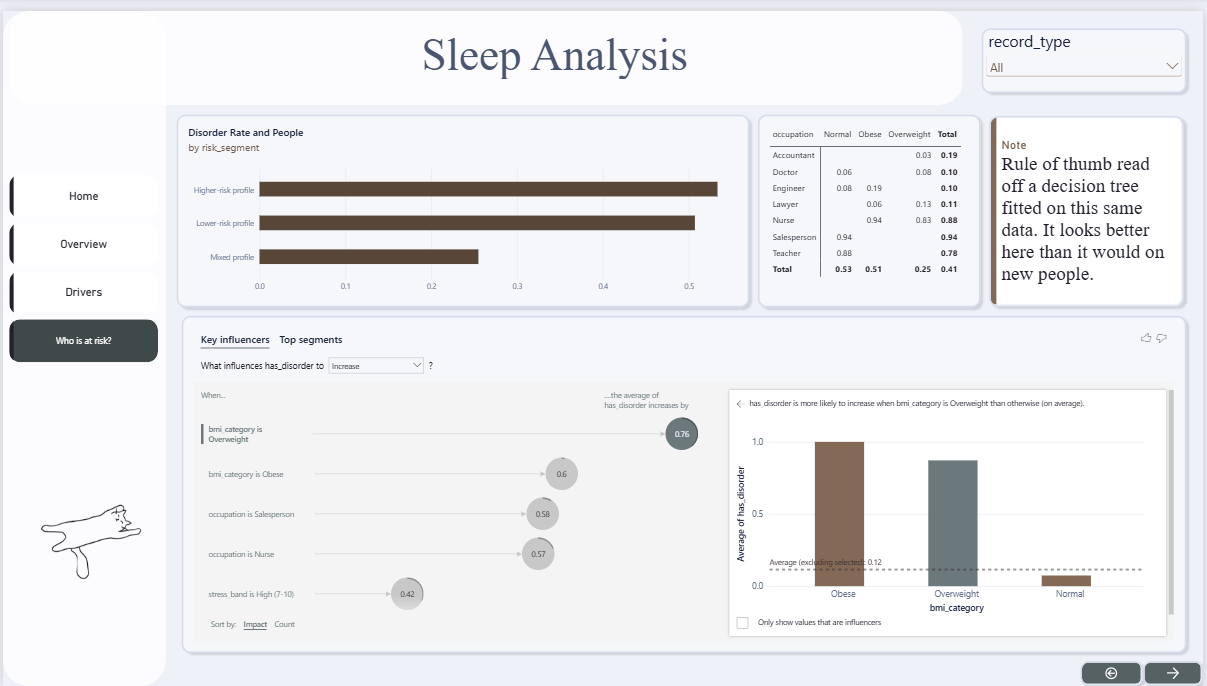

Layout of this report page (visuals, bound fields, positions):
{"tool":"powerbi","page":{"name":"Who is at risk?","canvas":[1920,1080],"ordinal":3},"visuals":[{"type":"pivotTable","fields":{"Rows":["dim_occupation.occupation"],"Columns":["dim_bmi.bmi_category"],"Values":["_measures.Disorder Rate (10+ people)"]},"box":[1208.9,166.5,356,308],"z":0},{"type":"barChart","fields":{"Category":["dim_risk_segment.risk_segment"],"Y":["_measures.Disorder Rate"]},"box":[278.7,166.5,915.7,307.6],"z":1000},{"type":"keyDriversVisual","fields":{"Target":["fact_sleep.has_disorder"],"ExplainBy":["fact_sleep.occupation","fact_sleep.bmi_category","fact_sleep.age_group","fact_sleep.stress_band","fact_sleep.gender"]},"box":[285.9,488.6,1607,539.3],"z":3000},{"type":"slicer","fields":{"Values":["fact_sleep.record_type"]},"box":[1565.4,29,327.5,103.2],"z":4000},{"type":"actionButton","box":[1724,1040,100,40],"z":6000},{"type":"actionButton","box":[1824,1040,96,40],"z":7000},{"type":"shape","box":[10.9,0,1525.5,150.2],"z":7001},{"type":"shape","box":[0,0,260.6,1080.4],"z":7002},{"type":"textbox","box":[260.6,27.1,1245,86.9],"z":7003},{"type":"pageNavigator","box":[10.9,262.4,238.9,302.2],"z":7004},{"type":"image","box":[0,564.2,278.7,515.8],"z":7005},{"type":"cardVisual","fields":{"Data":["_measures.Insights"]},"box":[1578,168.3,311.3,305.8],"z":7006}]}

Visuals, with their boxes in screenshot pixels (x1, y1, x2, y2), scaled from the page's 1920x1080 canvas onto the 1207x686 screenshot:
pivotTable - dim_occupation.occupation x dim_bmi.bmi_category: bbox=[760, 106, 984, 301]
barChart - dim_risk_segment.risk_segment x _measures.Disorder Rate: bbox=[175, 106, 751, 301]
keyDriversVisual - fact_sleep.has_disorder x fact_sleep.occupation: bbox=[180, 310, 1190, 653]
slicer - fact_sleep.record_type: bbox=[984, 18, 1190, 84]
actionButton: bbox=[1084, 661, 1147, 685]
actionButton: bbox=[1147, 661, 1206, 685]
shape: bbox=[7, 0, 966, 95]
shape: bbox=[0, 0, 164, 685]
textbox: bbox=[164, 17, 946, 72]
pageNavigator: bbox=[7, 167, 157, 359]
image: bbox=[0, 358, 175, 685]
cardVisual - _measures.Insights: bbox=[992, 107, 1188, 301]
